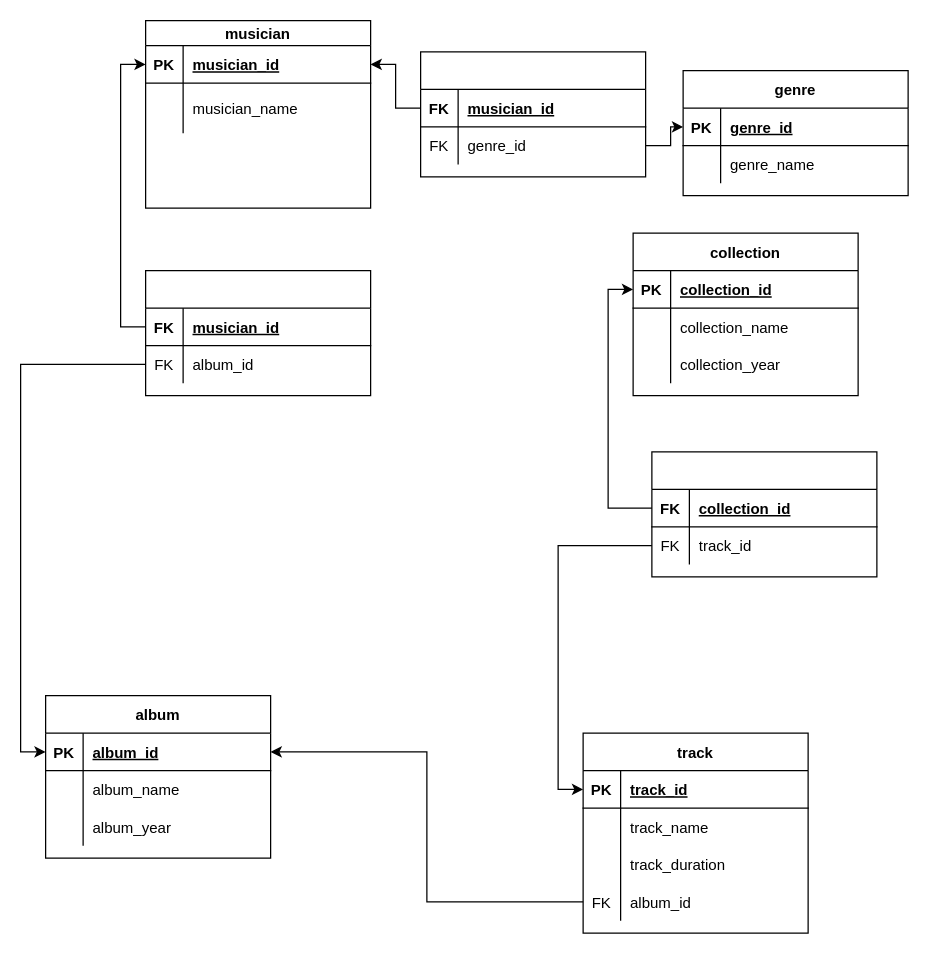
Image size: 929x954. Some labels were removed from this diagram. Here are the shapes that lost their labels. From the top down, the box of each, then its label:
(419, 51, 646, 177): MusicianGenre
(144, 269, 371, 396): MusicianAlbum
(651, 451, 877, 577): CollectionTrack
